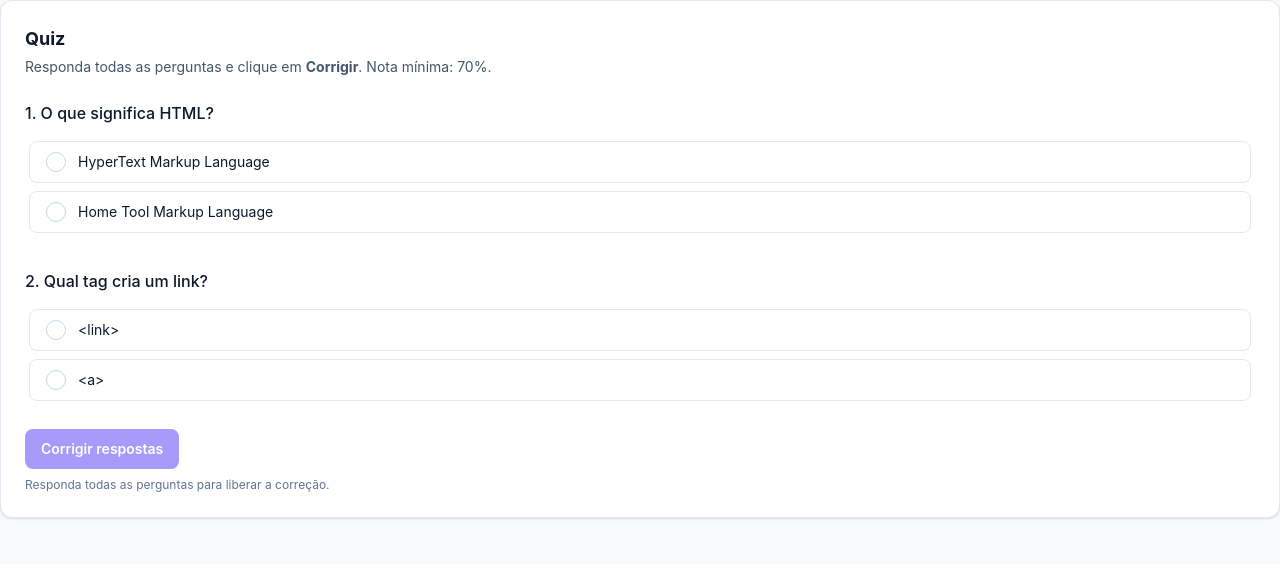
Test: QuizCard › exibe erro amigável quando a API falha
Click the radio button "HyperText Markup Language".
click(174, 162)  # box [29,141,1251,183]
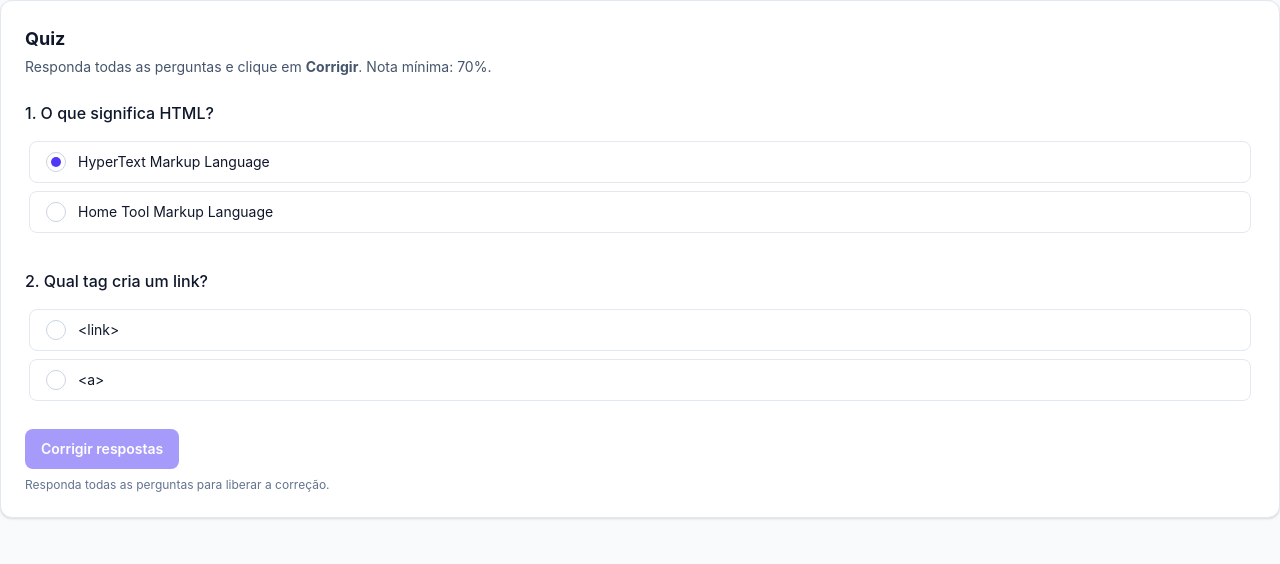
Click the radio button "<a>".
click(56, 380)  # box [29,359,1251,401]
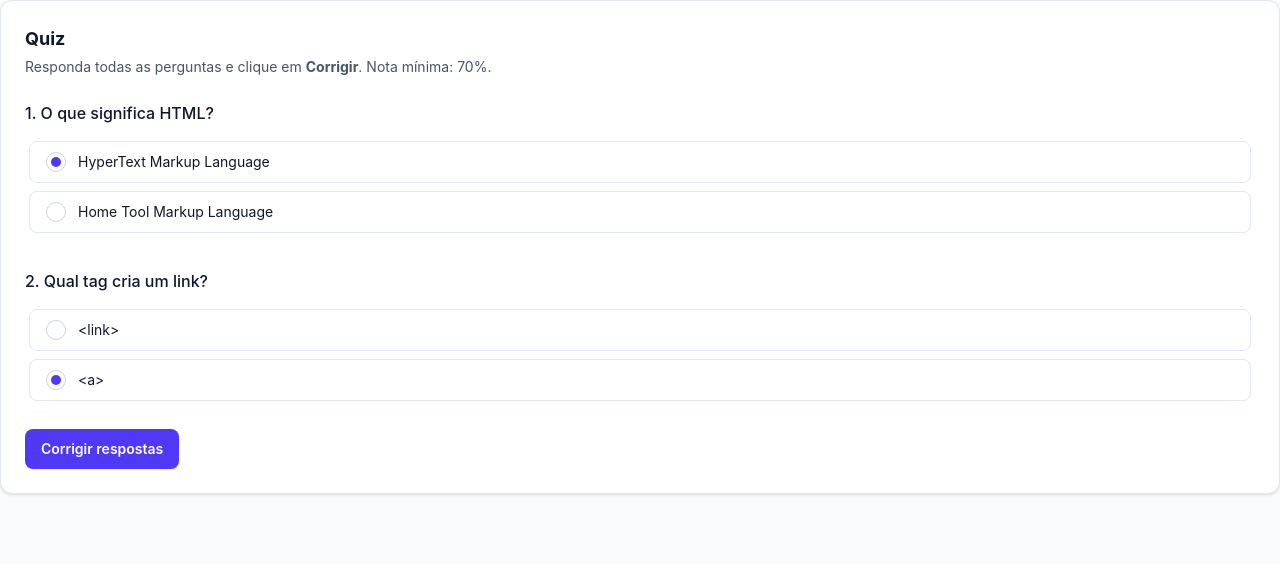
Click the button "Corrigir respostas".
click(102, 449)  # box [25,429,179,469]
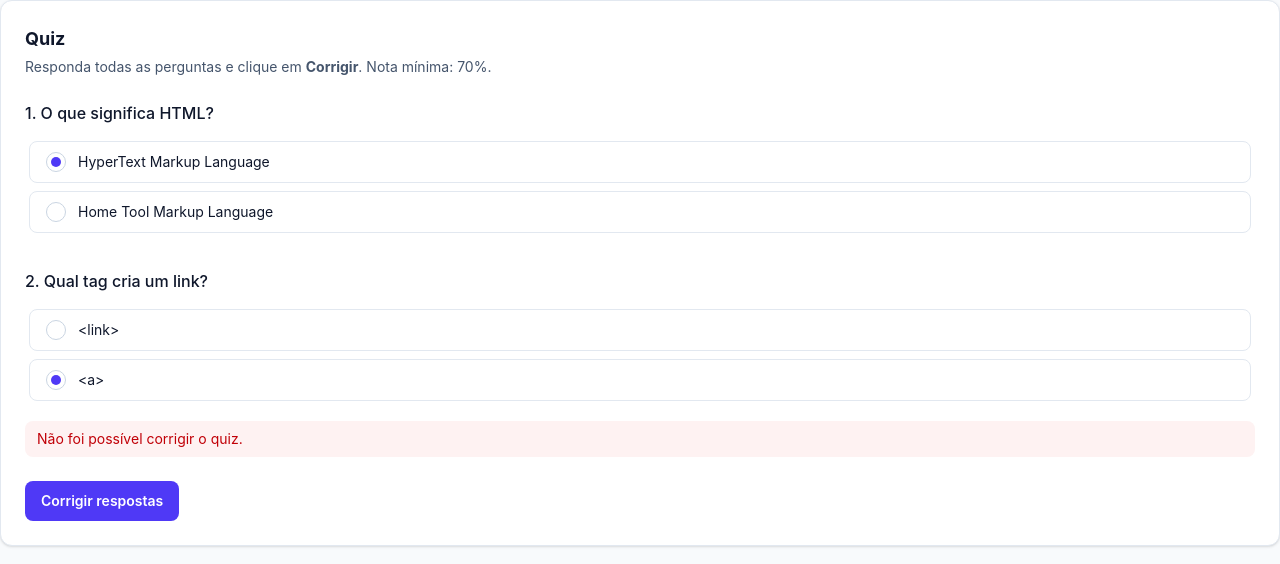
Expected: the message shows "Não foi possível corrigir o quiz", [37,430,243,447]
